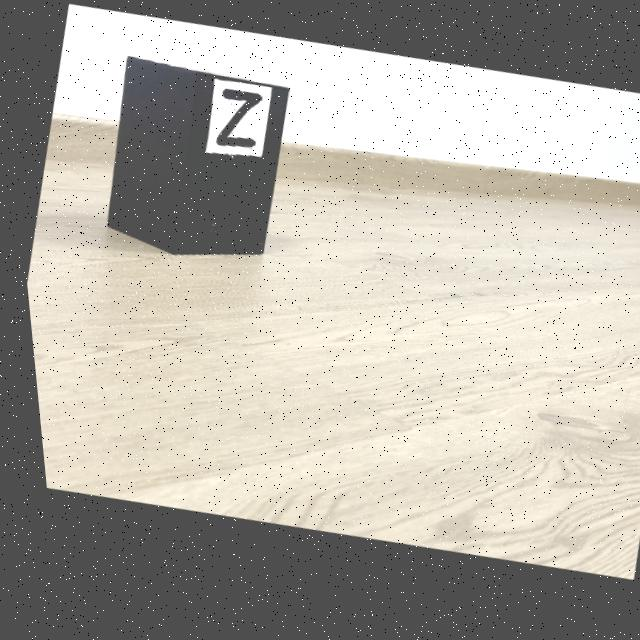Z: (213, 92, 259, 152)
